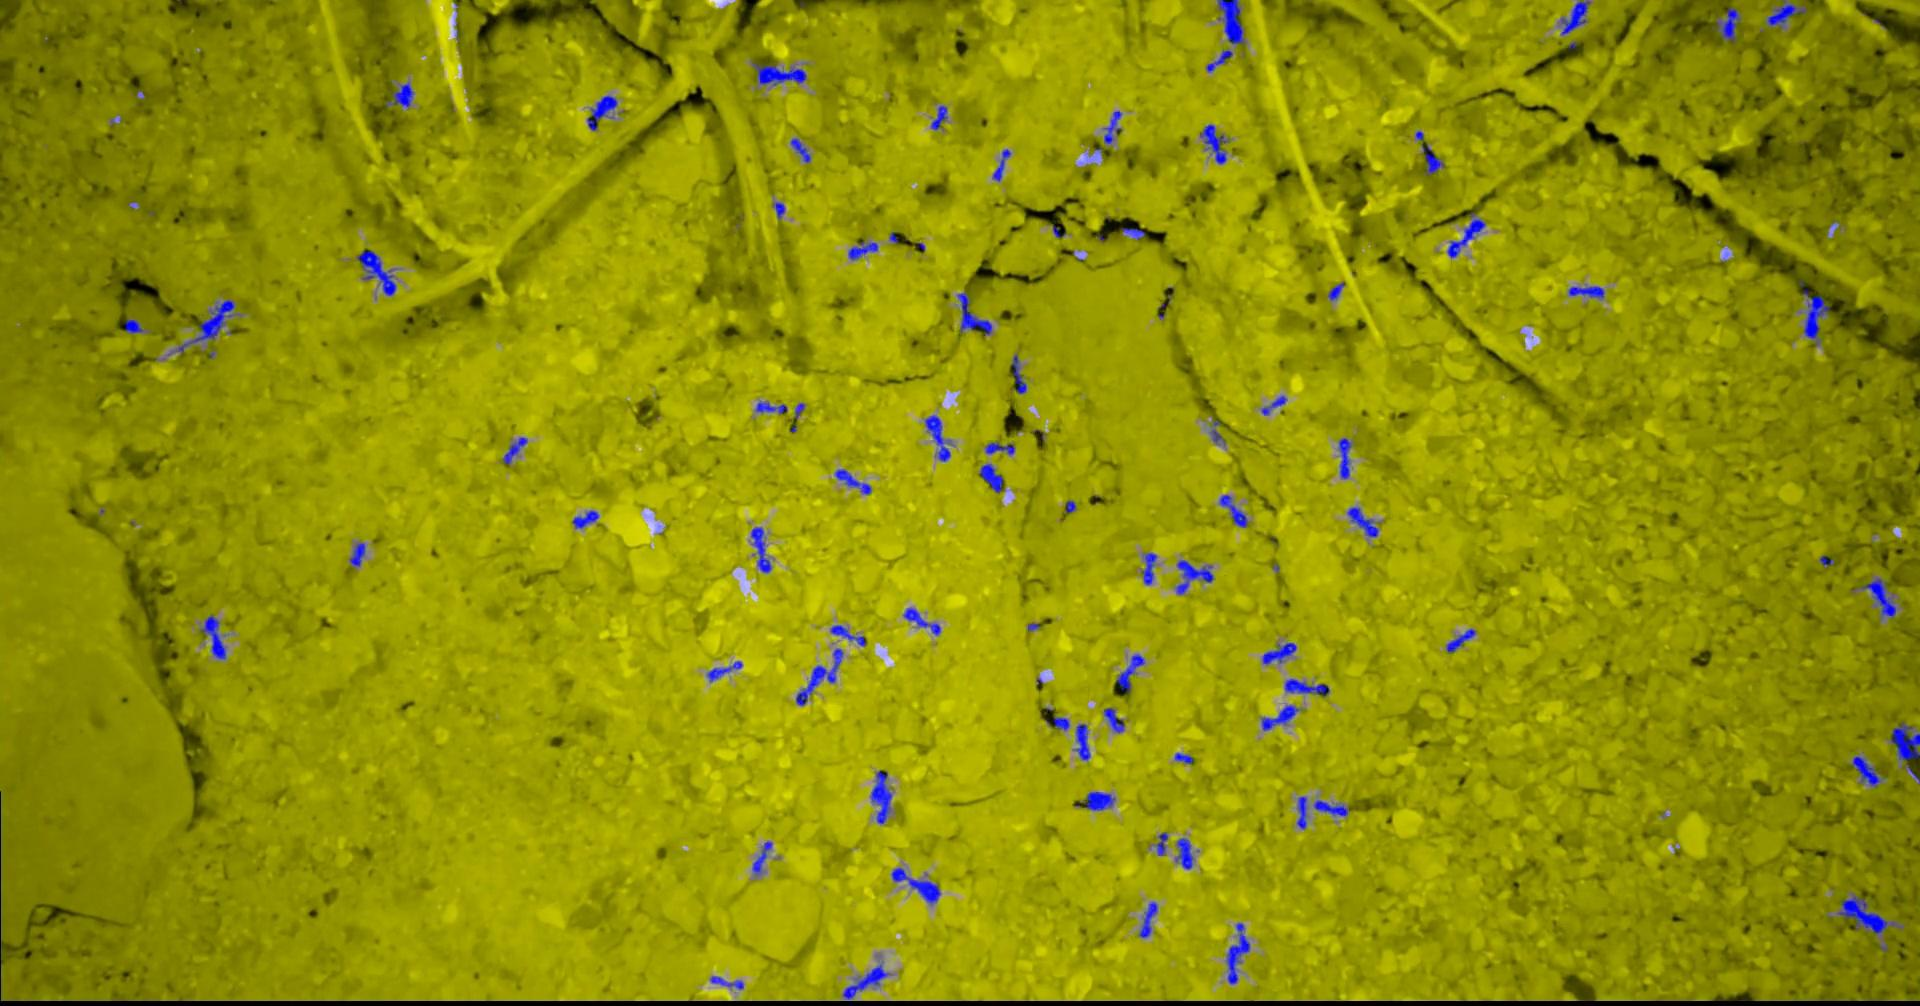ant: (177, 298, 234, 352), (795, 648, 842, 705), (1836, 895, 1895, 934), (891, 868, 940, 904), (356, 250, 395, 295), (1448, 211, 1484, 257), (842, 964, 890, 998), (1802, 288, 1829, 344), (1225, 922, 1250, 983), (957, 292, 990, 334), (1862, 577, 1895, 619), (1175, 559, 1213, 594), (924, 415, 951, 461), (1217, 0, 1243, 43), (753, 62, 806, 84), (870, 770, 891, 823), (1199, 124, 1228, 163), (1890, 721, 1919, 760), (199, 615, 225, 658), (585, 95, 617, 130), (1116, 654, 1144, 692), (1766, 0, 1806, 27), (903, 607, 940, 635), (1851, 756, 1884, 786), (1559, 0, 1589, 34), (1710, 8, 1738, 42), (834, 469, 871, 494), (1261, 705, 1298, 730), (1347, 506, 1377, 537), (1219, 494, 1247, 527), (750, 527, 771, 572), (1284, 678, 1330, 696), (1074, 791, 1114, 810), (830, 624, 865, 645), (1262, 641, 1297, 663), (1445, 627, 1476, 652), (978, 464, 1003, 492), (1138, 901, 1157, 937), (707, 661, 742, 681), (502, 437, 527, 464), (750, 841, 771, 874), (1421, 144, 1443, 174), (385, 83, 413, 105), (1103, 111, 1121, 144), (1313, 799, 1349, 815), (1011, 354, 1026, 392), (1205, 50, 1232, 71), (992, 149, 1010, 180), (1175, 837, 1192, 869), (1074, 723, 1090, 760), (847, 241, 877, 259), (1261, 395, 1286, 415), (1338, 437, 1351, 478), (790, 138, 810, 163), (1103, 708, 1124, 732), (571, 511, 598, 528), (1567, 286, 1604, 298), (710, 976, 743, 989), (1142, 553, 1156, 584), (930, 105, 947, 130), (985, 441, 1015, 453), (1210, 419, 1224, 445), (756, 401, 786, 413), (349, 542, 364, 565), (1327, 282, 1343, 300), (1121, 226, 1144, 239), (124, 318, 143, 333), (1046, 716, 1069, 729), (1297, 796, 1305, 828), (1156, 832, 1167, 855), (1175, 752, 1192, 763), (772, 202, 783, 218), (1065, 500, 1076, 512)
